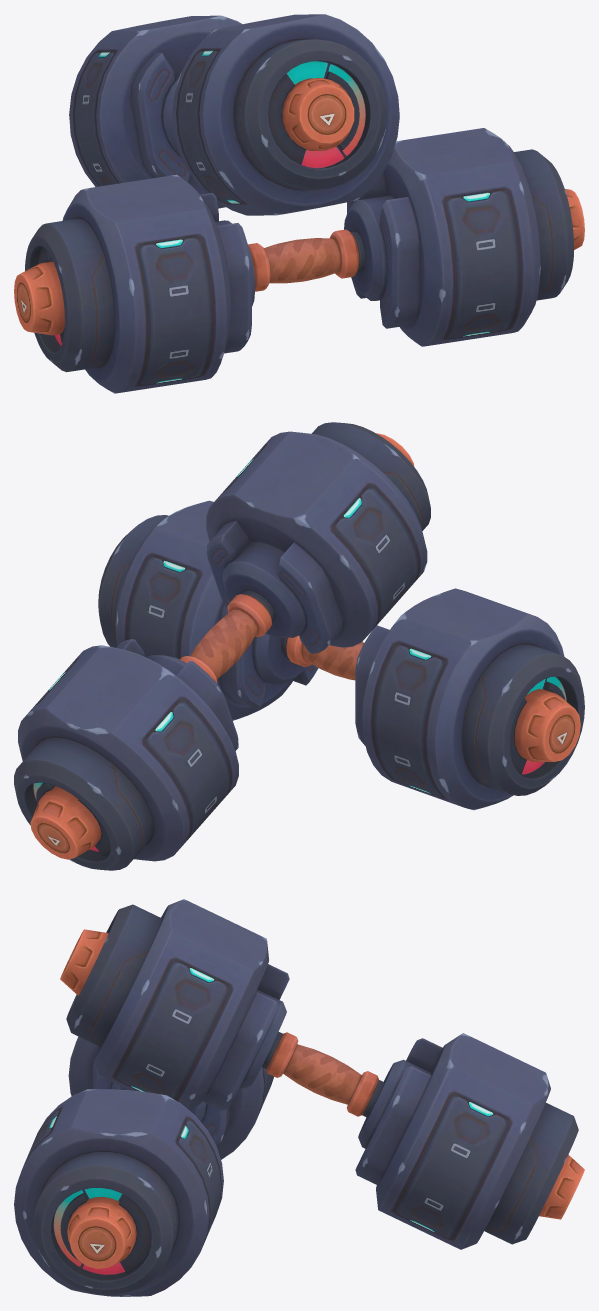
The model's file is stylized_sci-fi_dumbbell (1).glb.
3 renders of one model, top to bottom at view 1: azimuth 30°, elevation 25°; view 2: azimuth 150°, elevation 25°; view 3: azimuth 270°, elevation 25°, orthographic. The views are drawn at different scales.
Parts seen in each view (by area): view 1: 1_low001_M_Dumbbell_0, 1_low002_M_Dumbbell_0; view 2: 1_low002_M_Dumbbell_0, 1_low001_M_Dumbbell_0; view 3: 1_low002_M_Dumbbell_0, 1_low001_M_Dumbbell_0.
Part boxes in pixels (left/top/right/bottom): 1_low001_M_Dumbbell_0: left=14, top=128, right=584, bottom=393; 1_low002_M_Dumbbell_0: left=69, top=14, right=399, bottom=215; 1_low002_M_Dumbbell_0: left=14, top=422, right=430, bottom=870; 1_low001_M_Dumbbell_0: left=98, top=500, right=584, bottom=810; 1_low002_M_Dumbbell_0: left=60, top=899, right=584, bottom=1249; 1_low001_M_Dumbbell_0: left=14, top=1036, right=273, bottom=1296.
Bounding box in the file's own units: 0.2046 × 0.1223 × 0.2098.
Materials: 1 (1 with a texture image).
